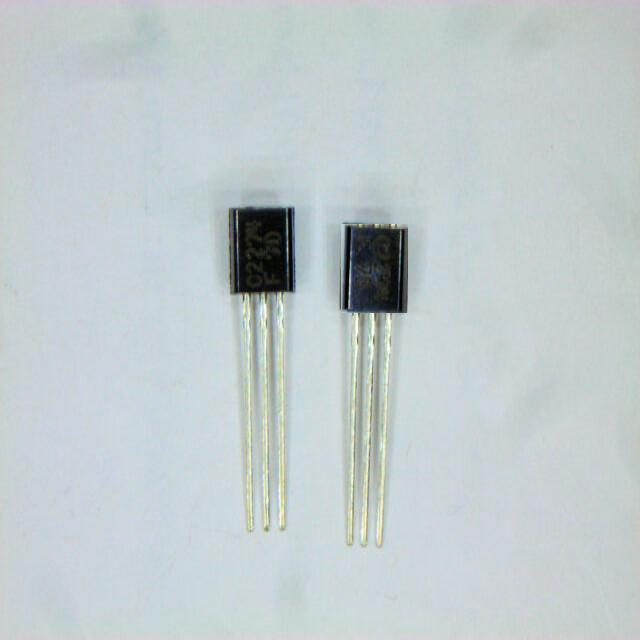Transistor: (330, 210, 422, 562), (220, 189, 306, 542)
